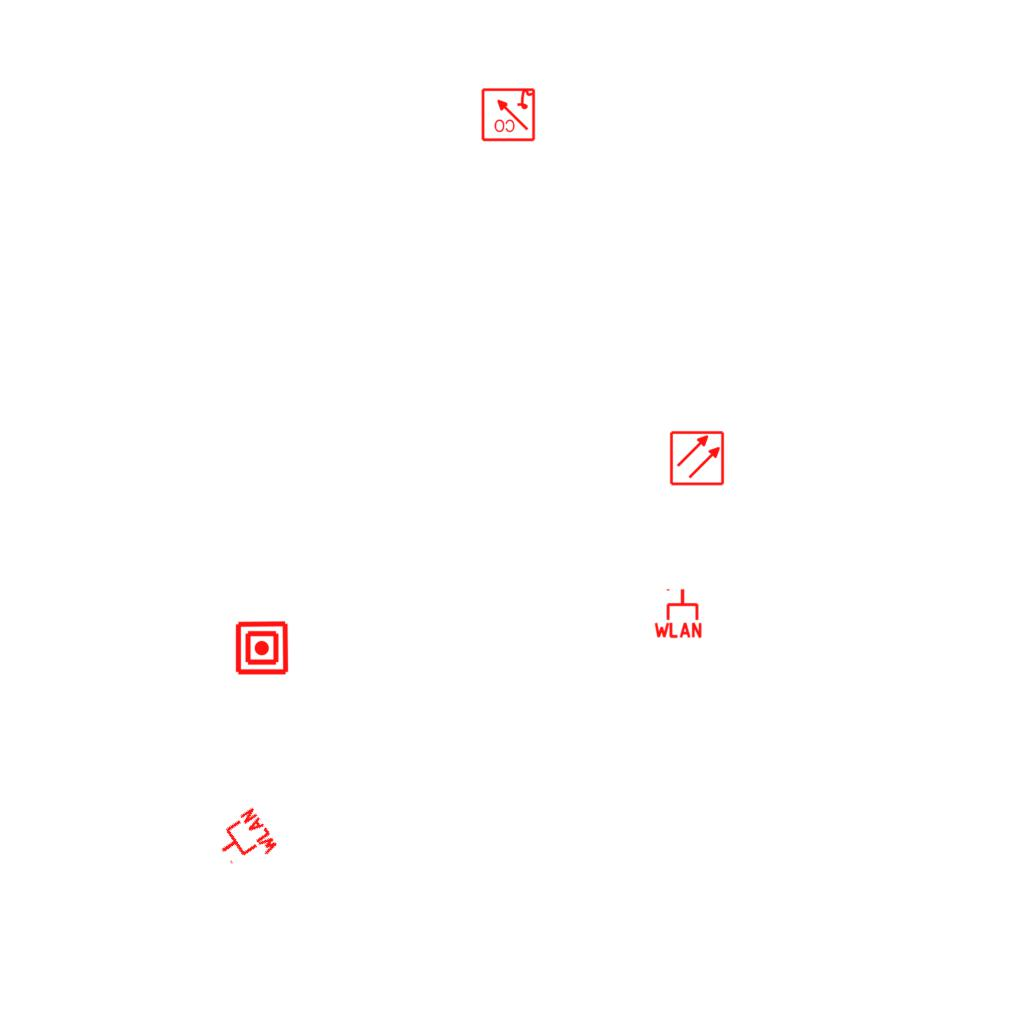NAM-Nichtautomatischer_Melder: (234, 620, 290, 676)
RMO_Rauchmelder_optischer: (669, 430, 725, 486)
ROA_Rauchmelder_optisch_mit_Signalgeber_(Sockelsirene): (480, 86, 536, 142)
WLAN: (208, 804, 282, 878), (652, 587, 704, 639)
